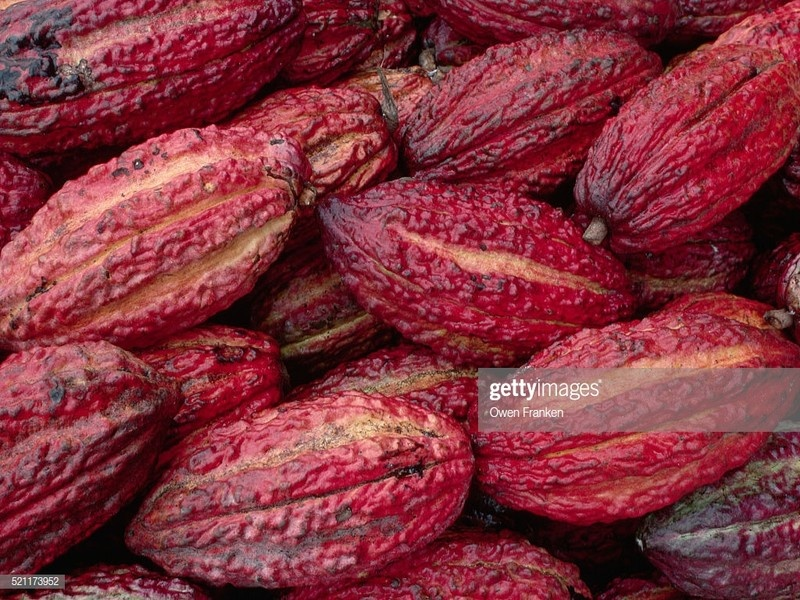Cacaopod: (477, 306, 800, 529), (120, 389, 474, 591), (5, 123, 308, 353), (317, 174, 640, 371), (392, 24, 673, 212), (1, 4, 316, 168), (572, 40, 800, 266), (1, 333, 192, 583)
